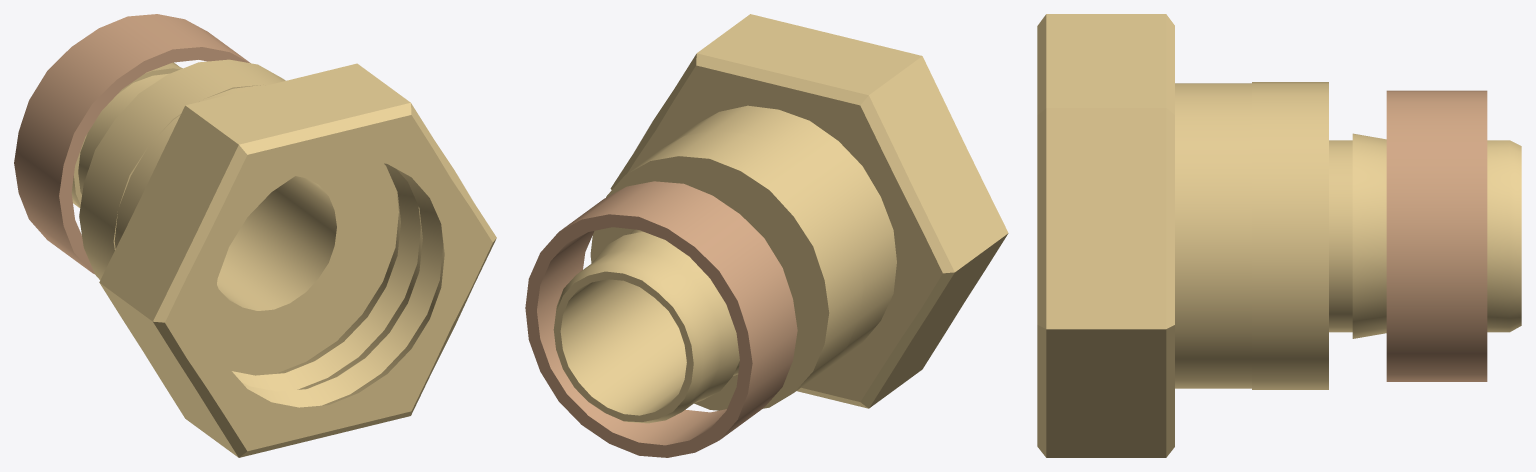
Rendered from pipes_supply__water_heater__8e1fc880.glb.
3 renders of one model, left to right at view 1: azimuth 30°, elevation 25°; view 2: azimuth 150°, elevation 25°; view 3: azimuth 270°, elevation 25°, orthographic. The views are drawn at different scales.
Visible parts, largest first — view 1: fit_adapter_pipe_supply_cold_riser_flo_n__pex; view 2: fit_adapter_pipe_supply_cold_riser_flo_n__pex; view 3: fit_adapter_pipe_supply_cold_riser_flo_n__pex.
Boxes of the visible parts, box(x1,y1,x2,y2) form: fit_adapter_pipe_supply_cold_riser_flo_n__pex: box(14, 14, 496, 457); fit_adapter_pipe_supply_cold_riser_flo_n__pex: box(525, 14, 1008, 457); fit_adapter_pipe_supply_cold_riser_flo_n__pex: box(1037, 14, 1521, 457).
Size of the model in its own units: 0.0366 by 0.0319 by 0.0399.
